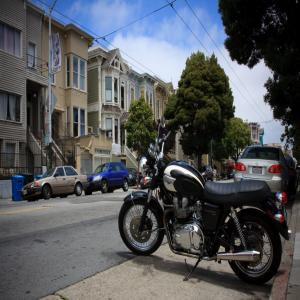Vehicle-registration-plate: (253, 167, 263, 174), (24, 190, 28, 196)
